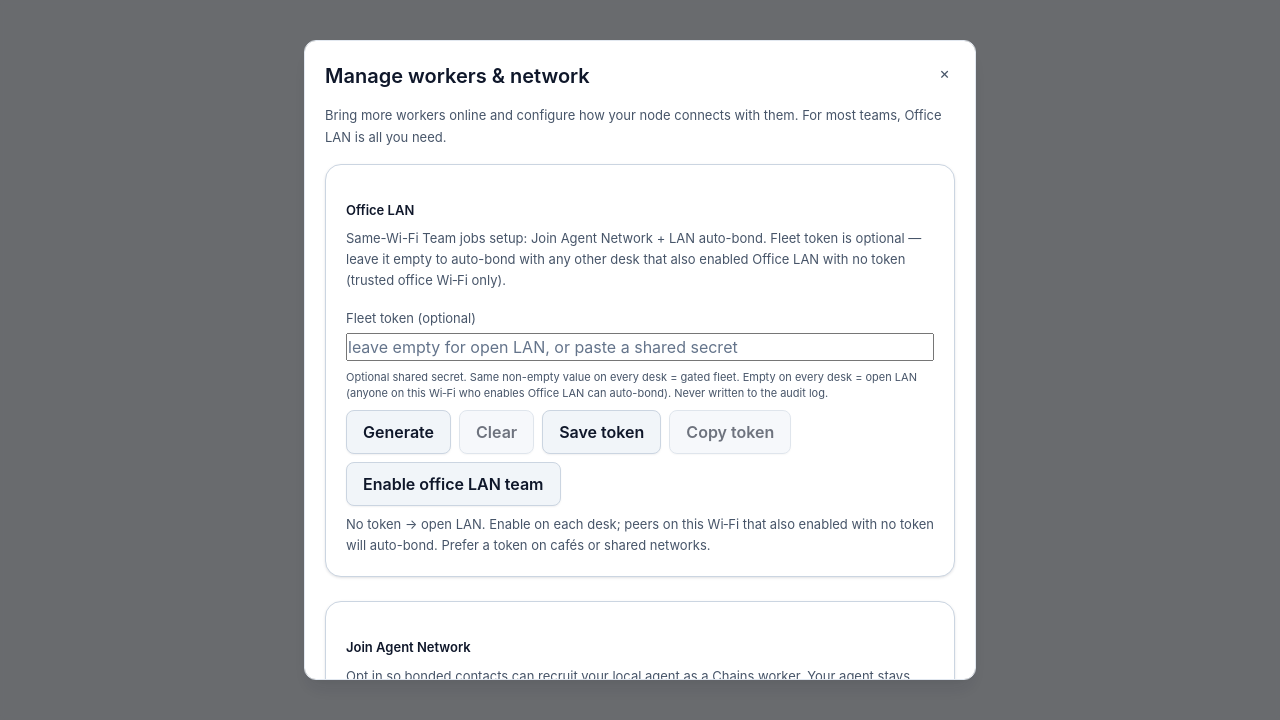
Test: AgentNetworkSettingsModal — Office LAN › cancels open-LAN confirmation and does not enable
Click the button with test id "office-lan-enable".
click(453, 484)  # box [346,462,560,506]
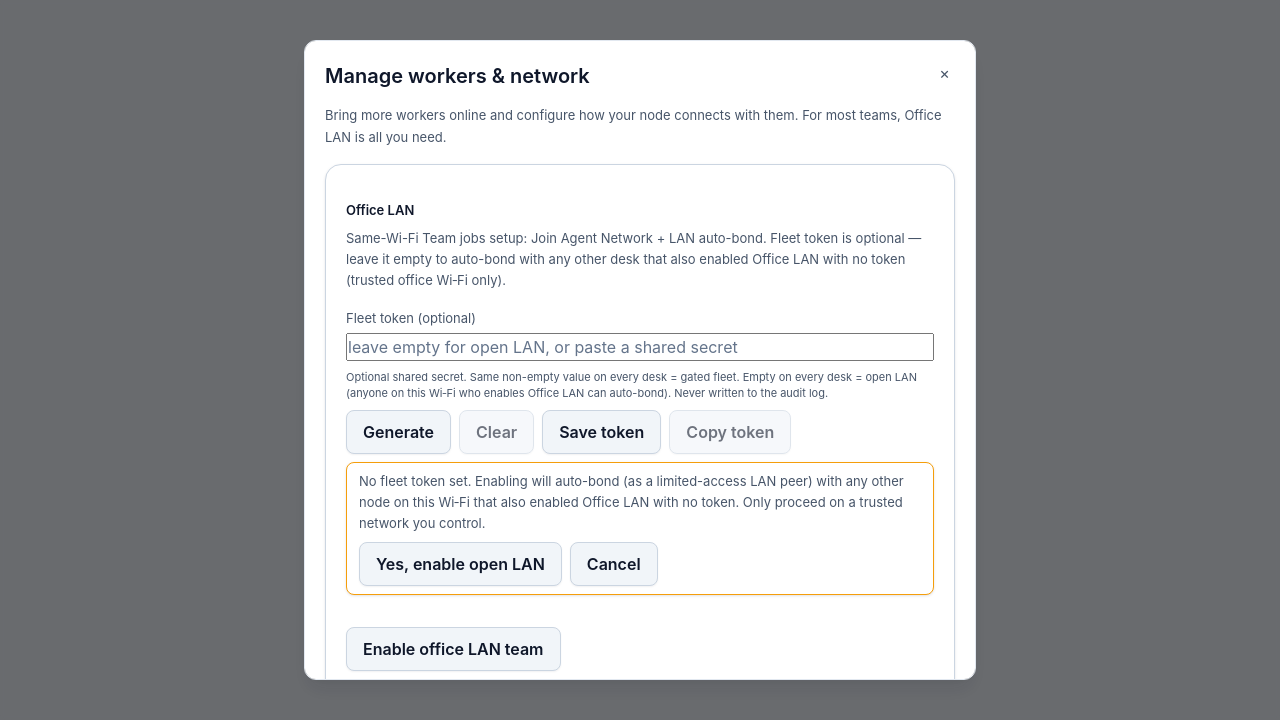
Click the button with test id "office-lan-open-confirm-cancel".
click(614, 564)  # box [570,542,658,586]
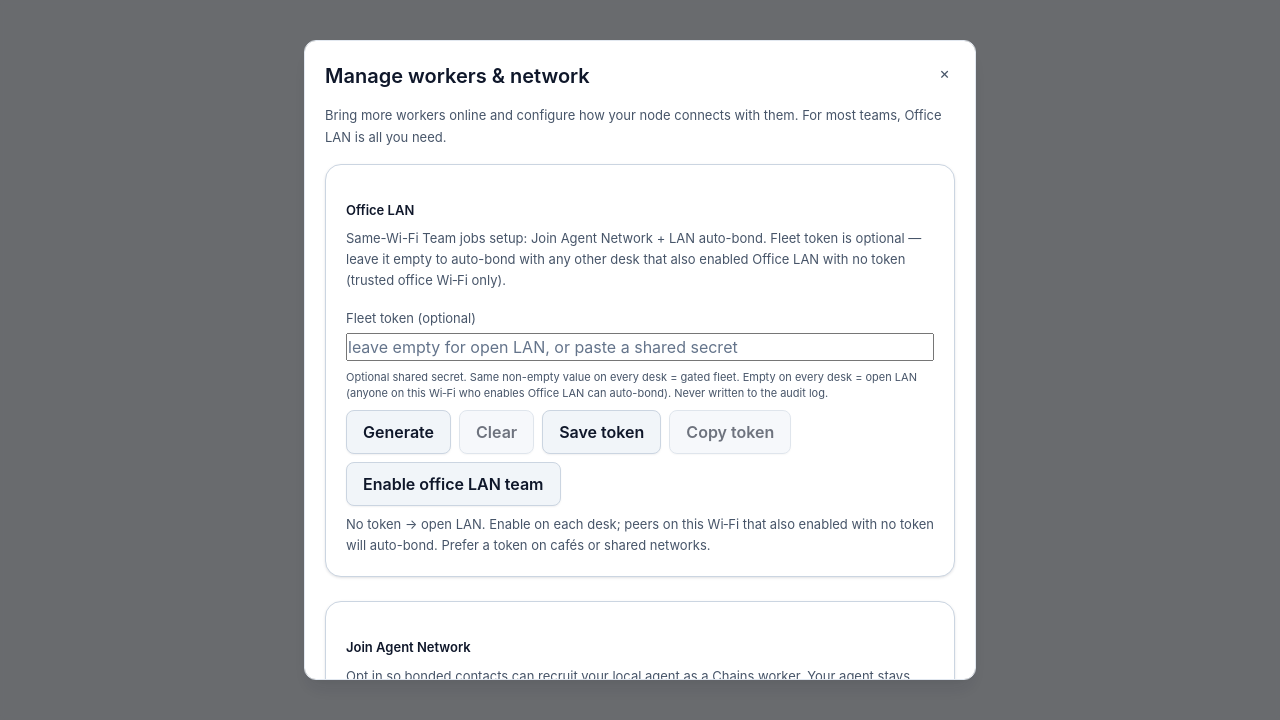
expect the element with test id "office-lan-open-confirm" is gone: met
